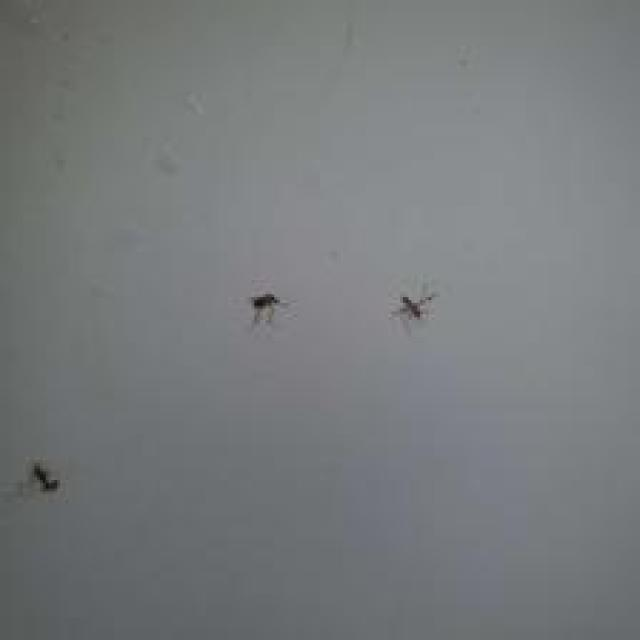Culex: (250, 293, 281, 324)
